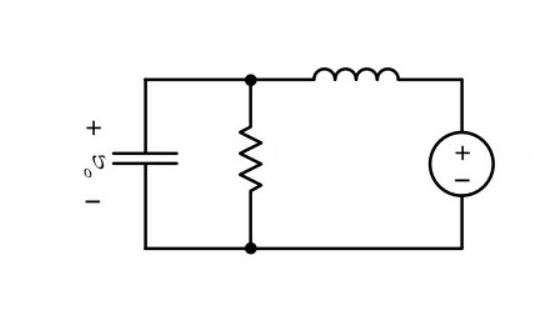resistor: (225, 109, 280, 199)
